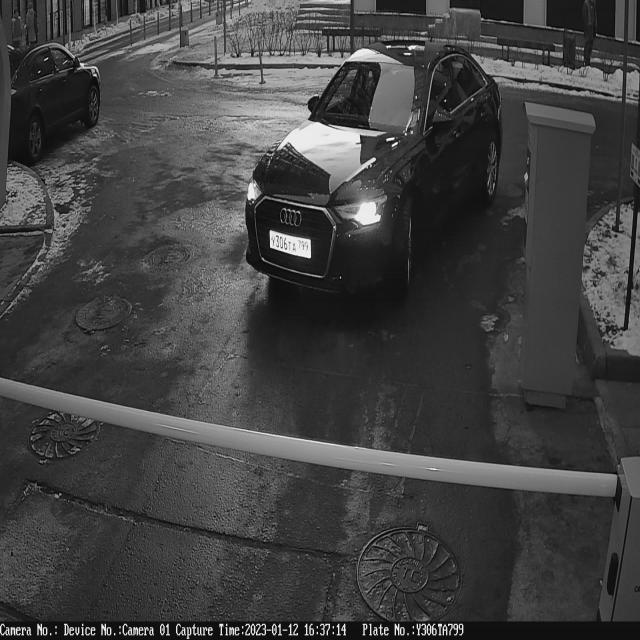car-plate-numbers: (267, 226, 315, 264)
